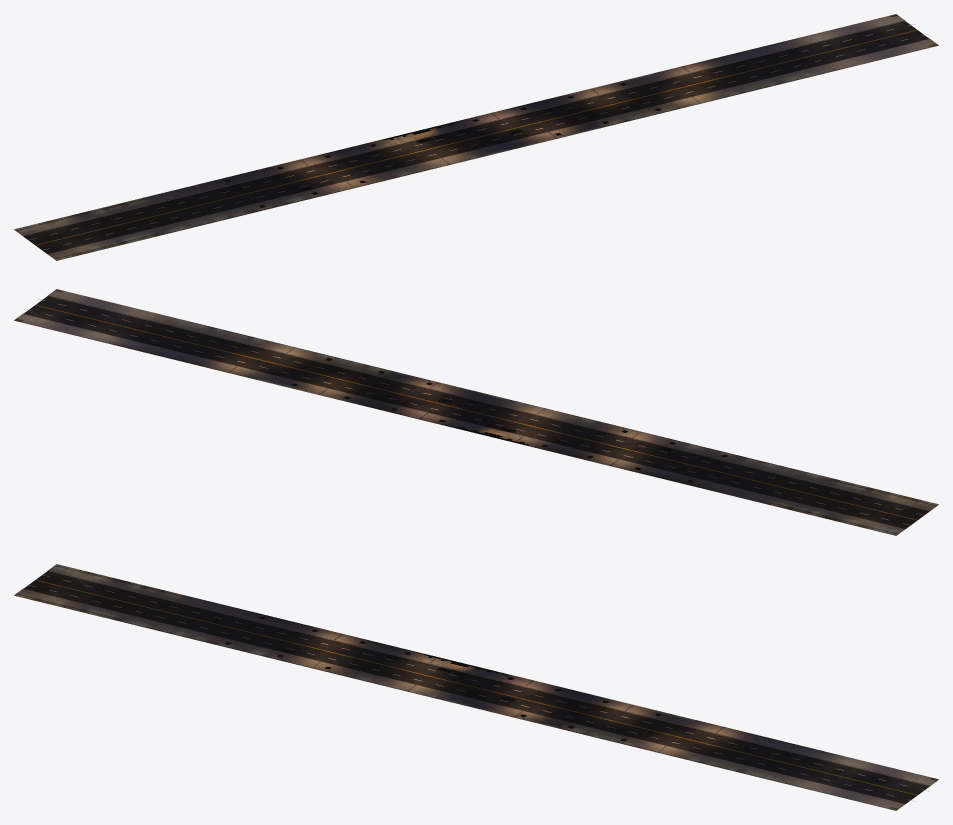
Rendered from ext_street.glb.
The picture shows the model from 3 angles, top to bottom: view 1: azimuth 30°, elevation 25°; view 2: azimuth 150°, elevation 25°; view 3: azimuth 330°, elevation 25°; orthographic projection.
Visible parts, largest first — view 1: ext_street; view 2: ext_street; view 3: ext_street.
Boxes of the visible parts, x1,y1,x2,y2 form: ext_street: (14, 14, 938, 260); ext_street: (14, 289, 938, 535); ext_street: (14, 564, 938, 810).
Bounding box in the file's own units: 372 × 0.2089 × 31.
Materials: 6 (6 with a texture image).
